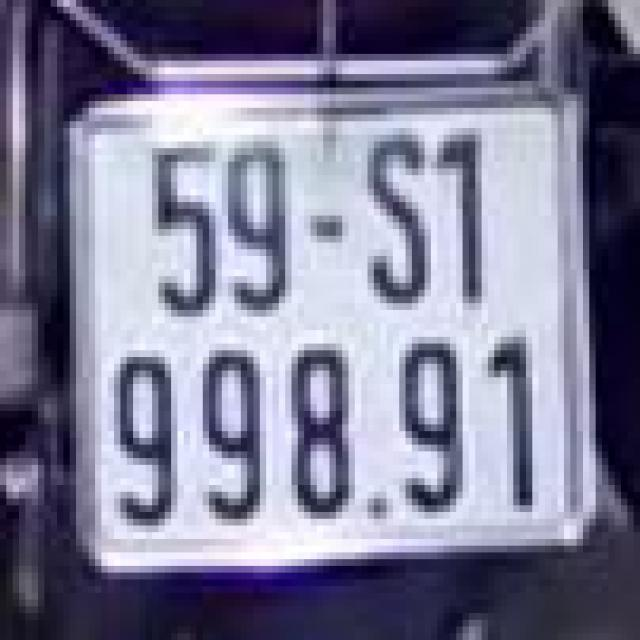1: (431, 108, 494, 310), (485, 323, 548, 519)
5: (139, 142, 222, 324)
8: (279, 330, 361, 532)
9: (393, 330, 481, 532), (190, 334, 273, 522), (108, 344, 184, 539), (218, 132, 294, 314)
S: (358, 121, 434, 317)
